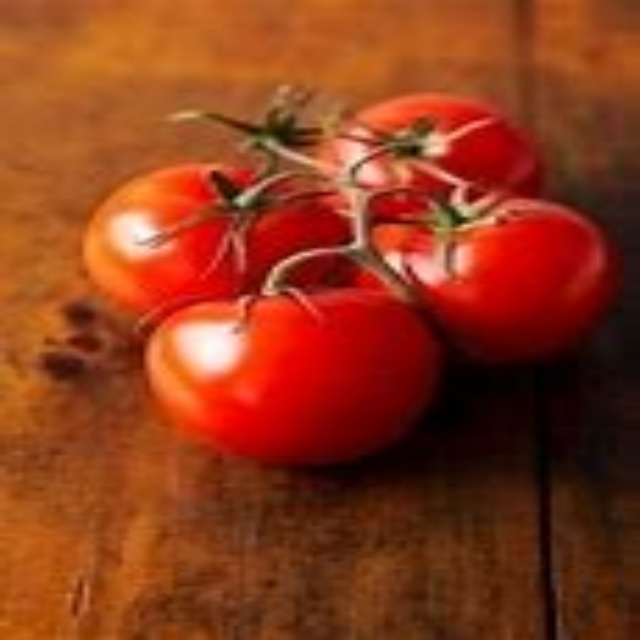tomato: (141, 292, 435, 472), (76, 160, 348, 318), (385, 213, 614, 357), (325, 92, 545, 232)
